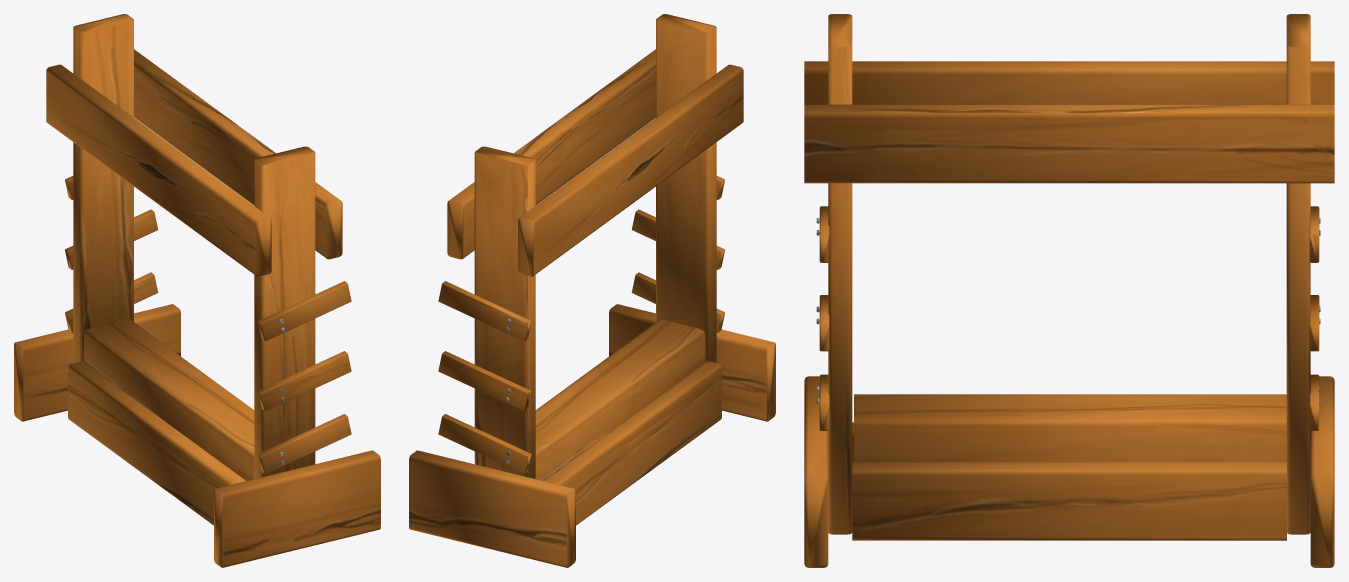
Rendered from weapon storage.fbx.
3 views of the same model, side by side, from view 1: azimuth 30°, elevation 25°; view 2: azimuth 150°, elevation 25°; view 3: azimuth 270°, elevation 25° (orthographic). The views are drawn at different scales.
Parts seen in each view (by area): view 1: Cube.010; view 2: Cube.010; view 3: Cube.010.
Boxes of the visible parts, left/top/right/bottom form: Cube.010: left=14, top=14, right=380, bottom=567; Cube.010: left=409, top=14, right=775, bottom=567; Cube.010: left=804, top=14, right=1334, bottom=567.
Bounding box in the file's own units: 199 × 464 × 457.
Materials: 2 (2 with a texture image).
